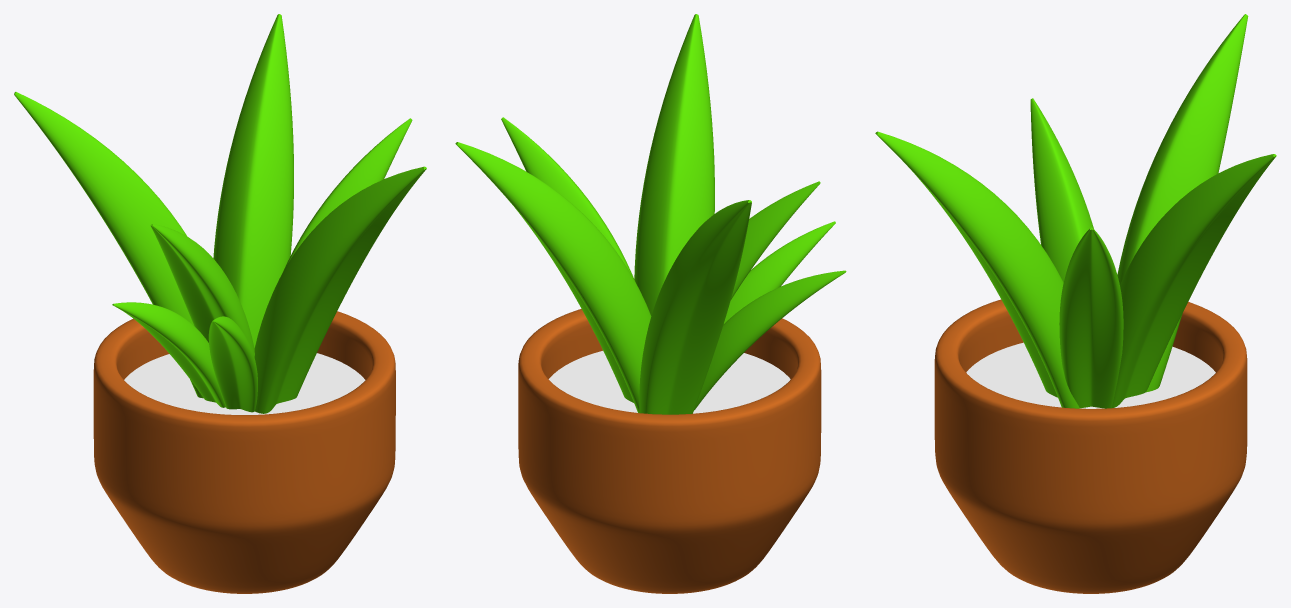
Rendered from Plant.glb.
The picture shows the model from 3 angles, left to right: view 1: azimuth 30°, elevation 25°; view 2: azimuth 150°, elevation 25°; view 3: azimuth 270°, elevation 25°; orthographic projection. The views are drawn at different scales.
Visible parts, largest first — view 1: Vert, NurbsPath.001, NurbsPath.004, NurbsPath.003, Circle, NurbsPath.002, NurbsPath.005, NurbsPath.006, NurbsPath; view 2: Vert, NurbsPath.003, NurbsPath.004, NurbsPath.001, Circle, NurbsPath.005, NurbsPath, NurbsPath.006, NurbsPath.002; view 3: Vert, NurbsPath.001, NurbsPath.004, NurbsPath.003, NurbsPath, NurbsPath.002, Circle.
Boxes of the visible parts, x1,y1,x2,y2 form: Vert: (93, 311, 395, 593); NurbsPath.001: (213, 14, 293, 347); NurbsPath.004: (254, 166, 426, 413); NurbsPath.003: (14, 92, 203, 398); Circle: (124, 353, 365, 414); NurbsPath.002: (150, 224, 254, 357); NurbsPath.005: (112, 302, 225, 407); NurbsPath.006: (208, 316, 257, 412); NurbsPath: (282, 118, 412, 273); Vert: (518, 309, 821, 593); NurbsPath.003: (639, 200, 751, 414); NurbsPath.004: (634, 14, 714, 315); NurbsPath.001: (455, 142, 651, 412); Circle: (548, 351, 790, 413); NurbsPath.005: (694, 270, 846, 410); NurbsPath: (501, 117, 634, 280); NurbsPath.006: (724, 221, 835, 323); NurbsPath.002: (731, 181, 820, 299); Vert: (934, 299, 1247, 593); NurbsPath.001: (1112, 154, 1276, 407); NurbsPath.004: (875, 131, 1079, 408); NurbsPath.003: (1117, 14, 1248, 392); NurbsPath: (1059, 227, 1123, 408); NurbsPath.002: (1030, 98, 1093, 282); Circle: (966, 342, 1215, 408).
Size of the model in its own units: 2.48 by 3.32 by 2.57.
